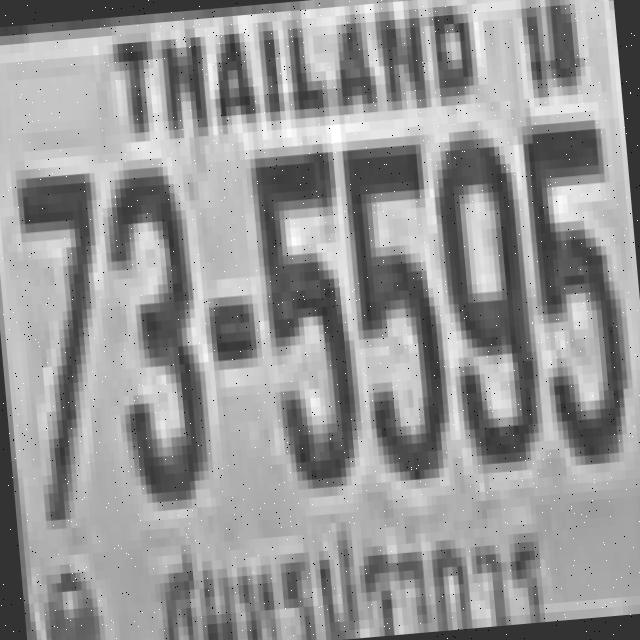3: (98, 156, 205, 495)
5: (516, 110, 628, 458), (244, 143, 356, 482), (337, 140, 449, 478)
7: (8, 164, 116, 521), (10, 164, 110, 422)
9: (428, 127, 540, 457)
SamutPrakan: (147, 499, 552, 640)
